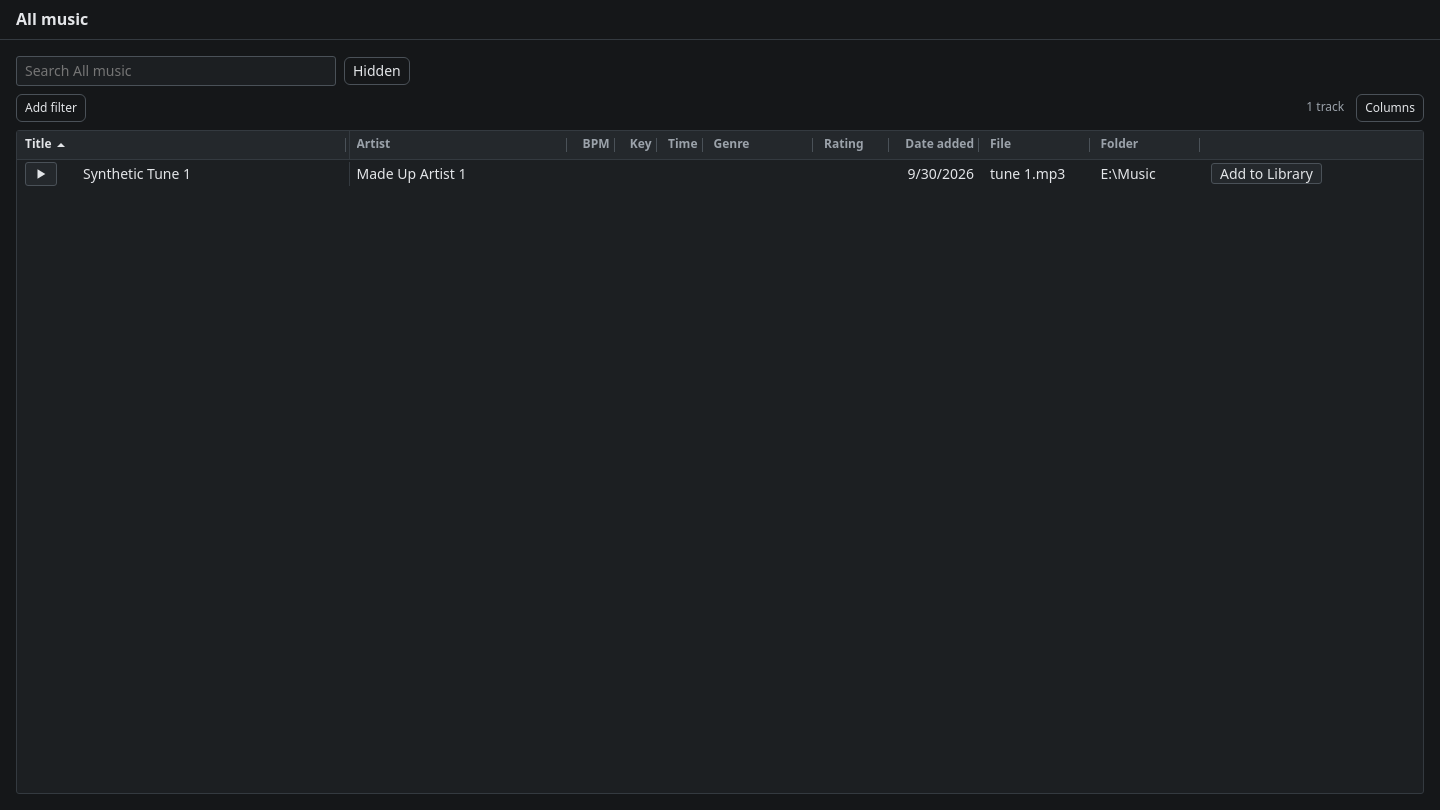
Test: the All music screen › says why a track couldn't be added
The image size is (1440, 810).
Click the button "Add to Library": (1266, 174) 1211,163 -> 1322,184
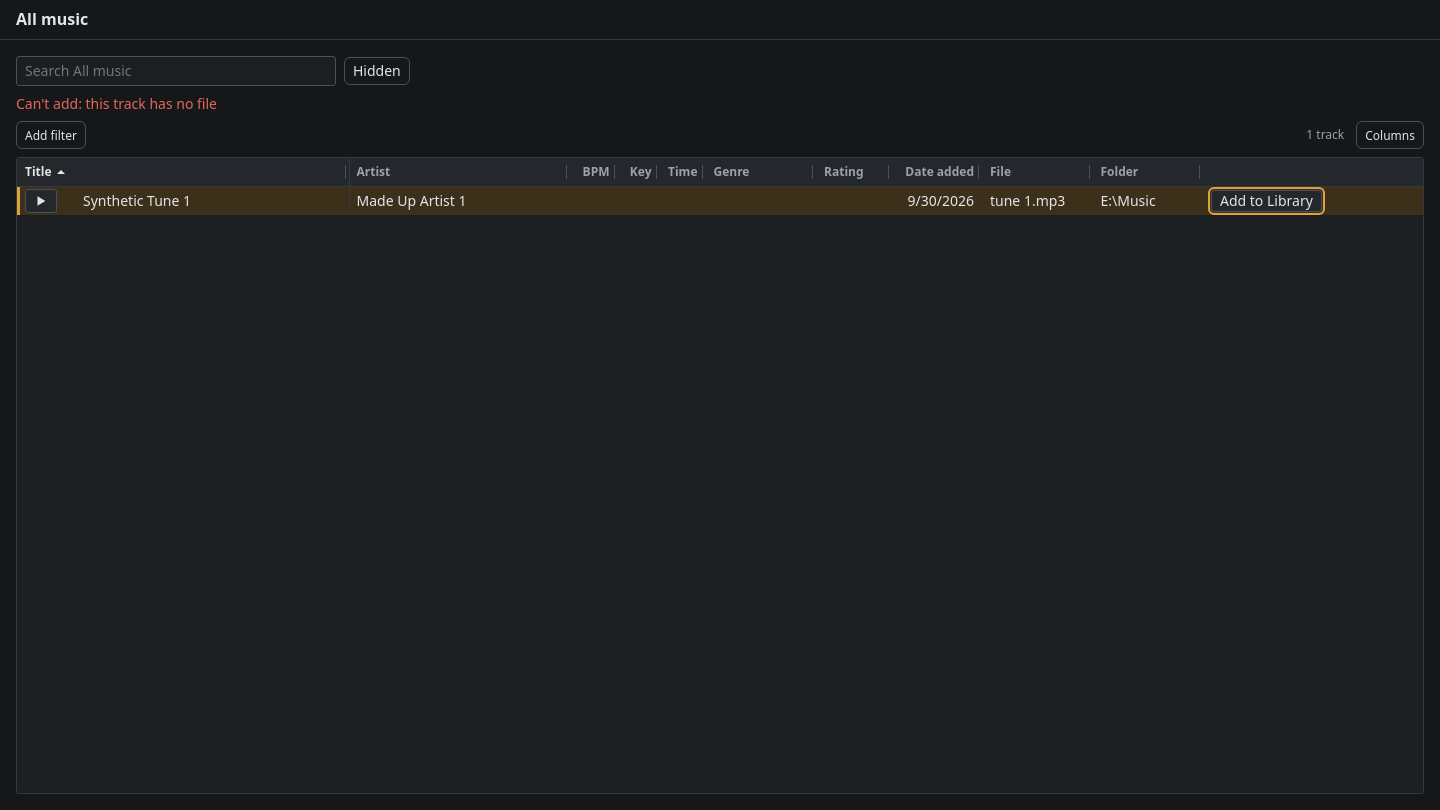
Now the message reads "Can't add: this track has no file", box 16,94 -> 217,113
